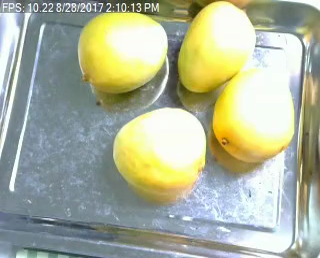Mango: (213, 68, 298, 162), (79, 10, 167, 94), (114, 110, 205, 191), (177, 2, 254, 91)
